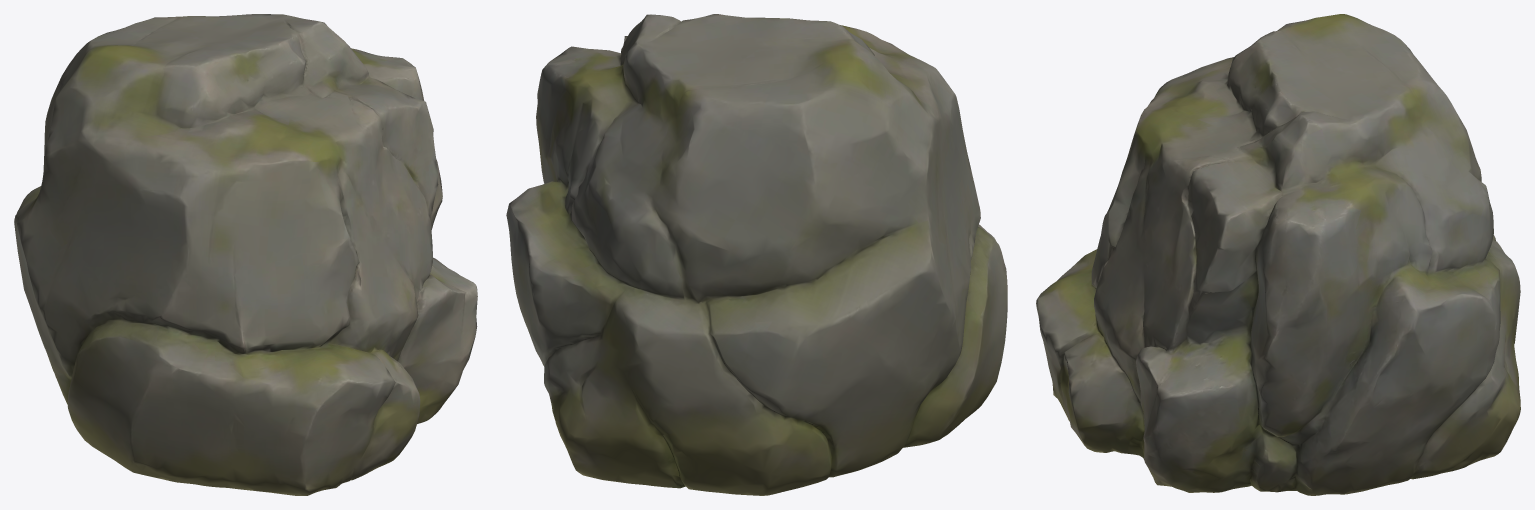
The model's file is roca_grande.glb.
The picture shows the model from 3 angles, left to right: view 1: azimuth 30°, elevation 25°; view 2: azimuth 150°, elevation 25°; view 3: azimuth 270°, elevation 25°; orthographic projection. The views are drawn at different scales.
Parts seen in each view (by area): view 1: tripo_node_584f3e98-2e46-4610-b20a-5ef9319f02d4; view 2: tripo_node_584f3e98-2e46-4610-b20a-5ef9319f02d4; view 3: tripo_node_584f3e98-2e46-4610-b20a-5ef9319f02d4.
Boxes of the visible parts, bbox=[...] form: tripo_node_584f3e98-2e46-4610-b20a-5ef9319f02d4: bbox=[14, 14, 477, 495]; tripo_node_584f3e98-2e46-4610-b20a-5ef9319f02d4: bbox=[506, 14, 1007, 495]; tripo_node_584f3e98-2e46-4610-b20a-5ef9319f02d4: bbox=[1036, 14, 1520, 495].
Bounding box in the file's own units: 0.9178 × 0.8351 × 1.
Materials: 1 (1 with a texture image).
